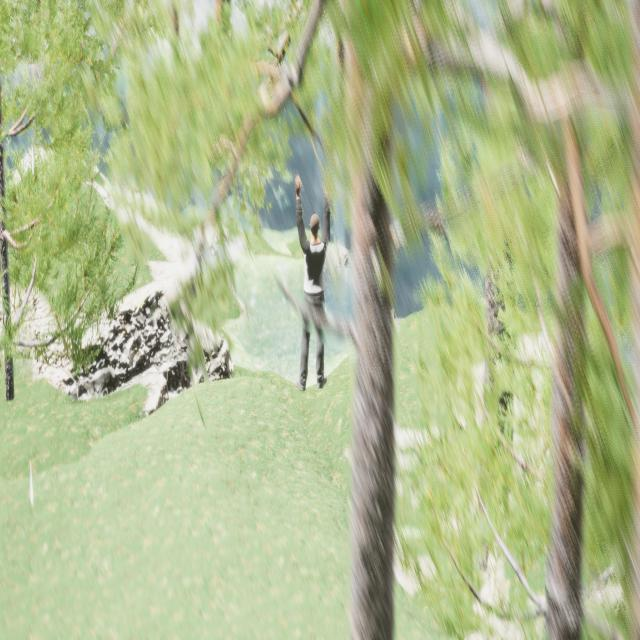Human: (286, 171, 337, 406)
